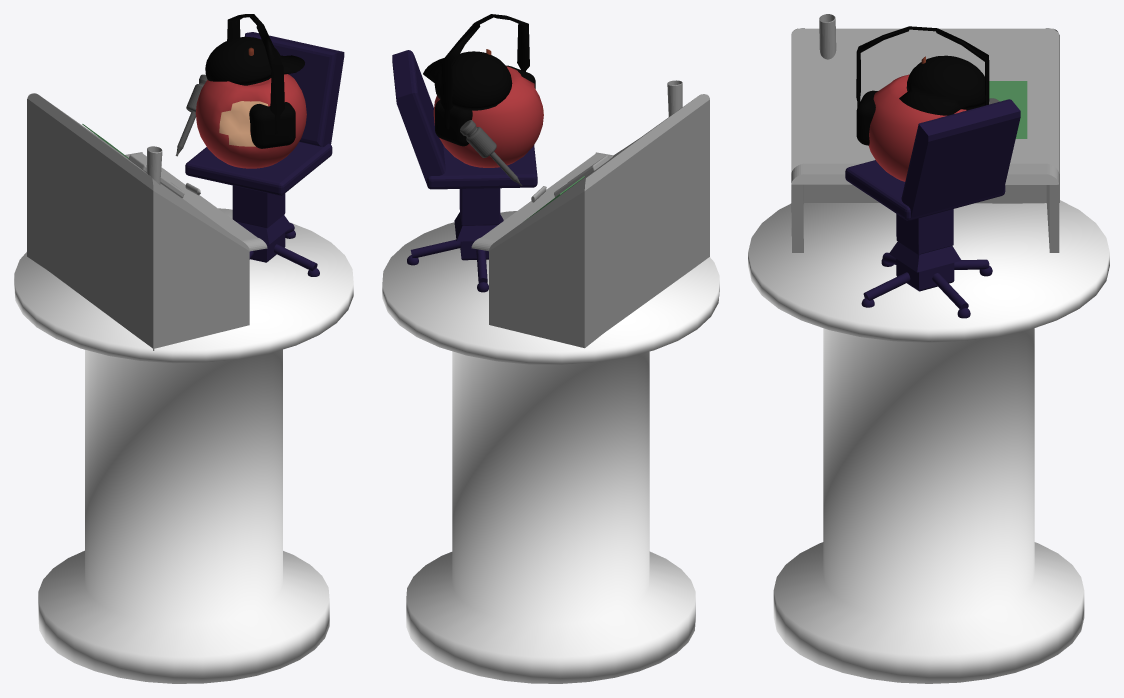
File: knight_technical.glb
3 renders of one model, left to right at view 1: azimuth 30°, elevation 25°; view 2: azimuth 150°, elevation 25°; view 3: azimuth 270°, elevation 25°, orthographic. The views are drawn at different scales.
Parts seen in each view (by area): view 1: Cylinder, Cube, Cube.006, Sphere, Sphere.001, Cube.003, Cube.004, Cylinder.001; view 2: Cylinder, Cube, Cube.006, Sphere, Sphere.001, Cube.002, Cube.001, Cylinder.001, Cube.004; view 3: Cylinder, Cube, Cube.006, Sphere.001, Sphere, Cube.003, Cube.002, Cube.004.
Boxes of the visible parts, bbox=[...] form: Cylinder: bbox=[14, 208, 353, 683]; Cube: bbox=[27, 93, 267, 350]; Cube.006: bbox=[185, 32, 344, 276]; Sphere: bbox=[195, 47, 306, 168]; Sphere.001: bbox=[205, 37, 304, 85]; Cube.003: bbox=[249, 102, 295, 148]; Cube.004: bbox=[256, 24, 284, 133]; Cylinder.001: bbox=[175, 74, 207, 156]; Cylinder: bbox=[382, 211, 719, 683]; Cube: bbox=[471, 80, 709, 348]; Cube.006: bbox=[392, 50, 537, 292]; Sphere: bbox=[433, 49, 543, 167]; Sphere.001: bbox=[423, 51, 512, 110]; Cube.002: bbox=[440, 14, 495, 129]; Cube.001: bbox=[435, 99, 472, 146]; Cylinder.001: bbox=[460, 120, 521, 185]; Cube.004: bbox=[491, 14, 529, 71]; Cylinder: bbox=[748, 200, 1109, 683]; Cube: bbox=[791, 14, 1059, 252]; Cube.006: bbox=[845, 99, 1020, 318]; Sphere.001: bbox=[899, 55, 985, 115]; Sphere: bbox=[869, 56, 966, 181]; Cube.003: bbox=[856, 90, 877, 145]; Cube.002: bbox=[908, 26, 989, 105]; Cube.004: bbox=[856, 26, 909, 107].
Bounding box in the file's own units: 4.01 × 7.34 × 3.85.
